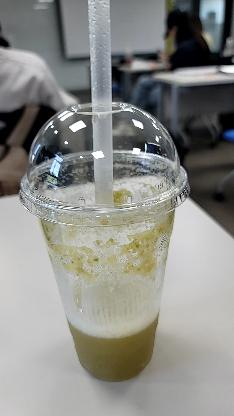Plastic Cup: (18, 99, 188, 383), (19, 100, 193, 228), (76, 3, 128, 206)
